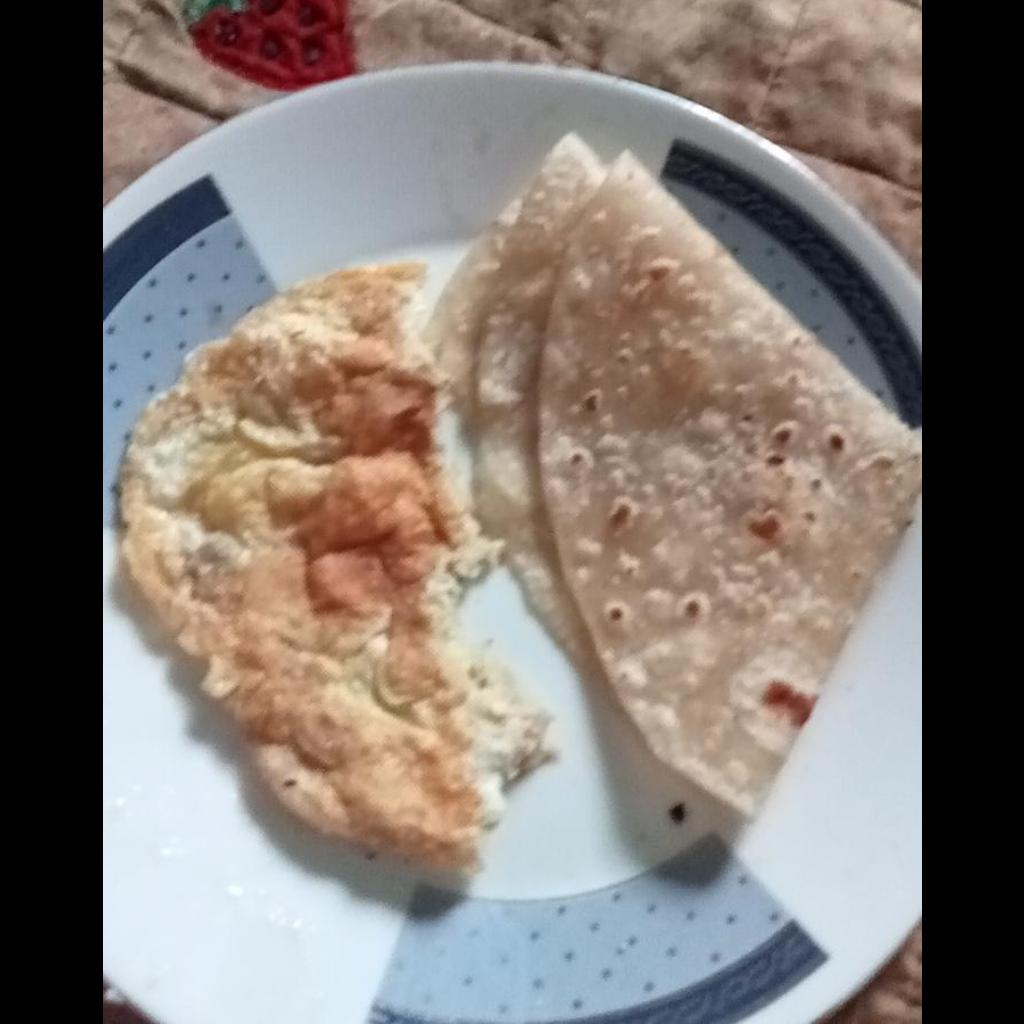egg-poached: (115, 262, 556, 875)
ruti: (423, 130, 920, 818)
